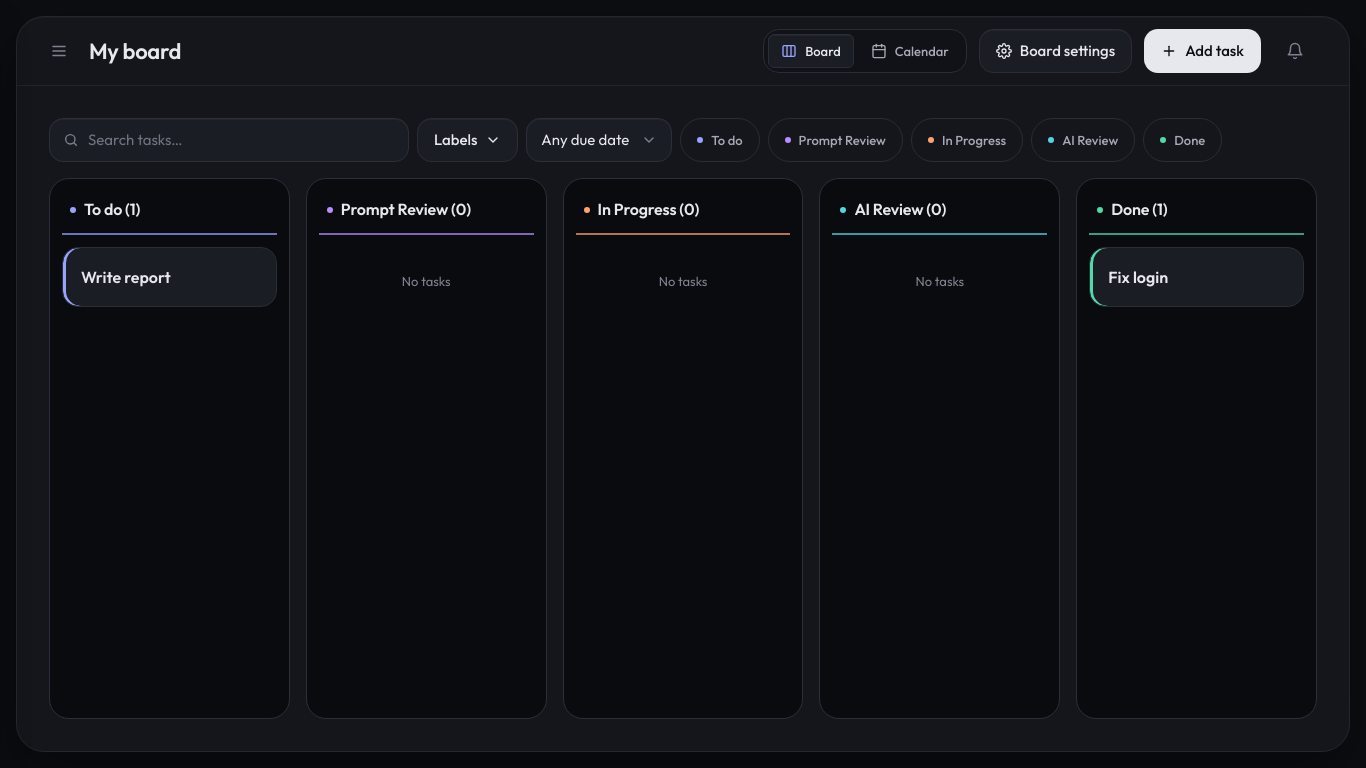
Test case: App › switches boards from the menu
Expected: the button "Write report" is shown, [81,266,171,288]
What coordinates should you click on to do the following:
click the button named "Open menu"
I would click on:
 (59, 51)
Its box is [37,29,81,73].
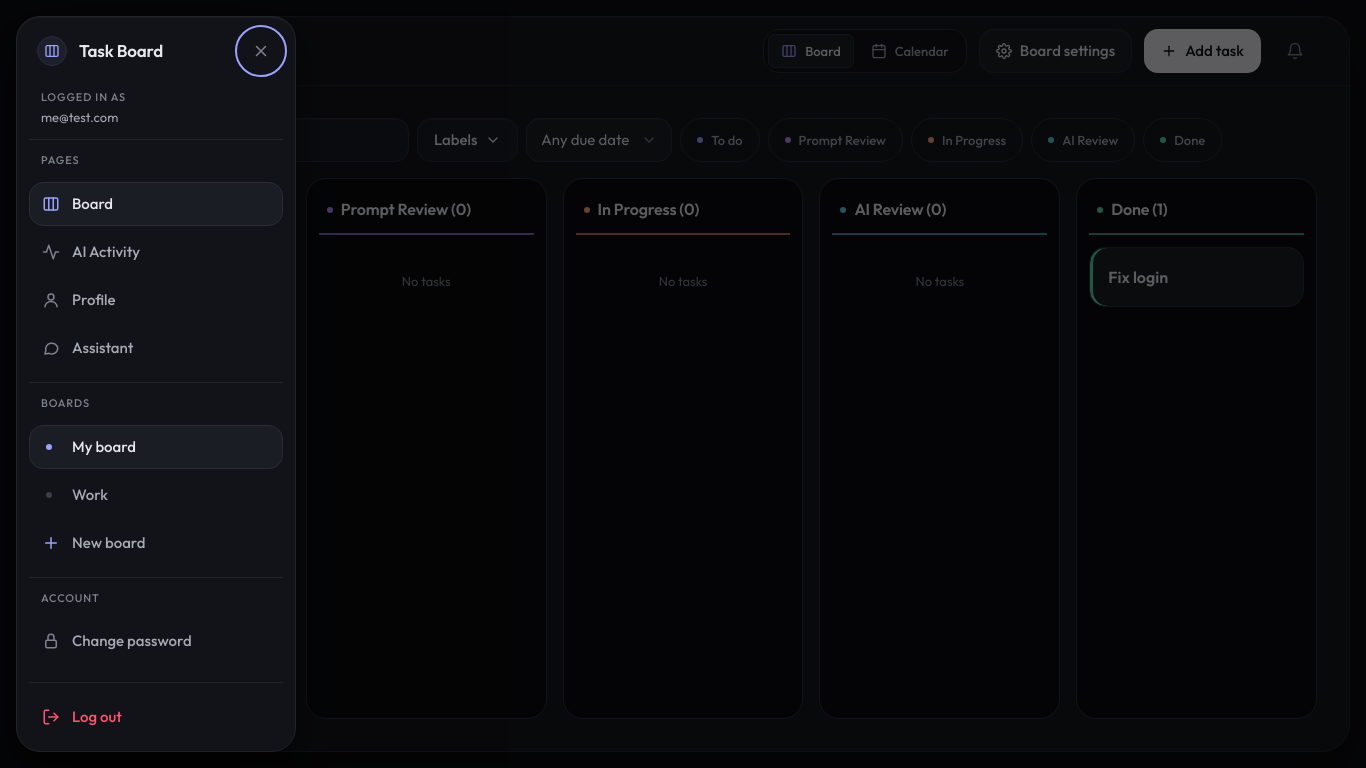
What coordinates should you click on to do the following:
click the button "Work"
I would click on:
 (156, 495)
Its box is [29,473,283,517].
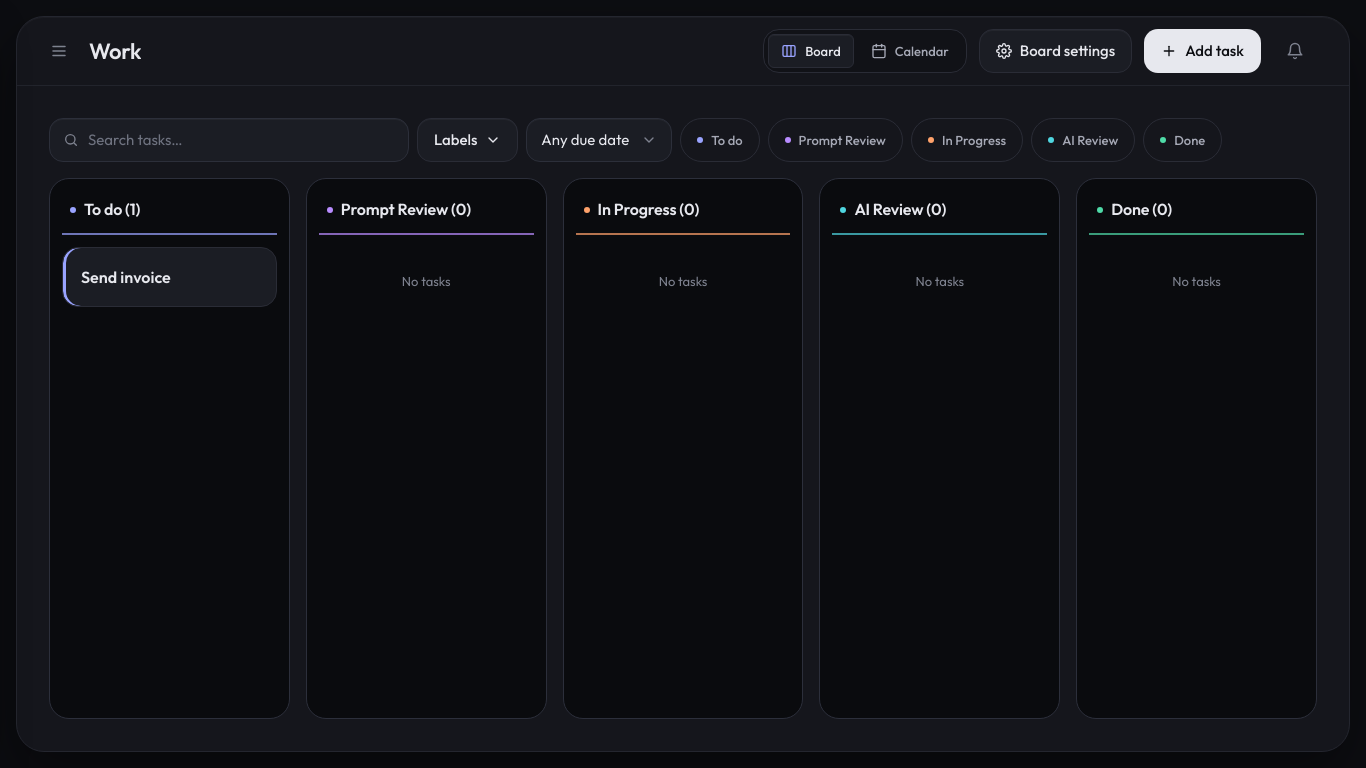
Expected: the button "Send invoice" is shown, [81,266,171,288]
Expected: the button "Write report" is gone
